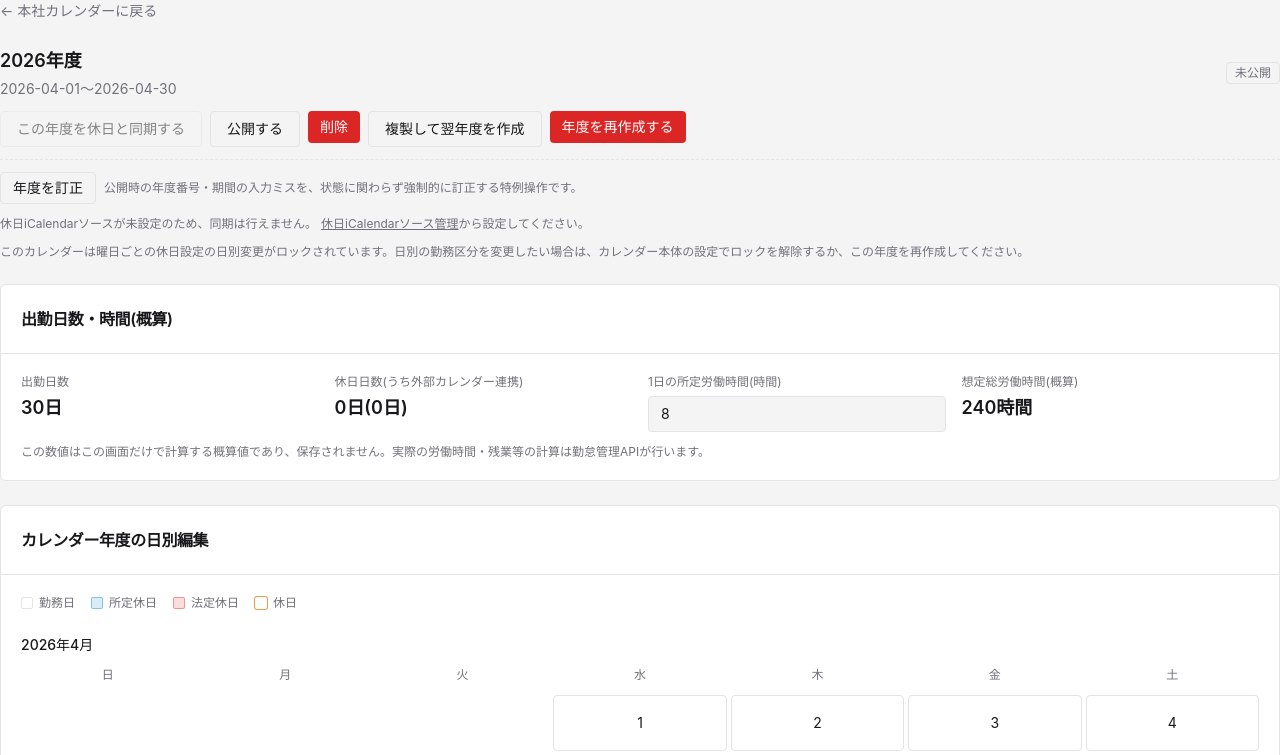
Test case: WorkCalendarDaysPage › shows the classification read-only and hints at the lock when the calendar disallows daily override
What coordinates should you click on to do the following:
click the button named "2026-04-01 勤務日"
I would click on:
 (640, 723)
Its box is x1=553 y1=695 x2=727 y2=751.
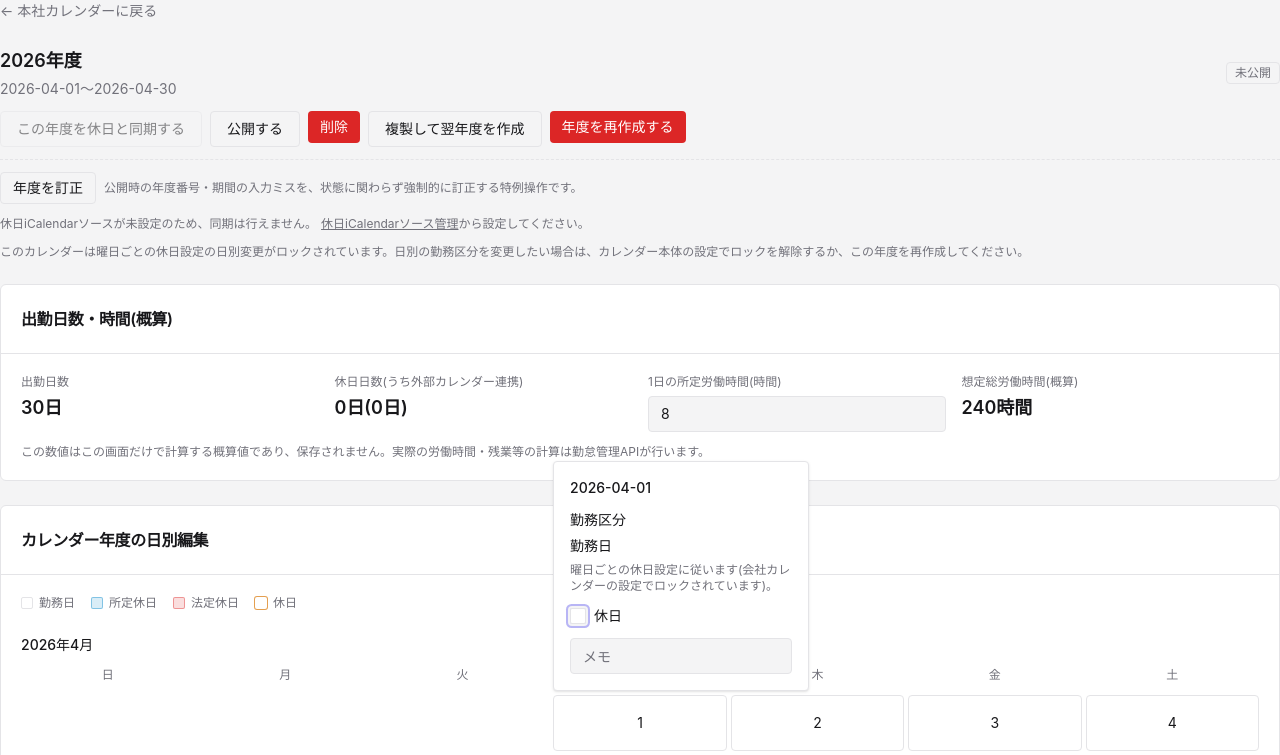
Expected: the text "このカレンダーは曜日ごとの休日設定の日別変更がロックされています。日別の勤務区分を変更したい場合は、カレンダー本体の設定でロックを解除するか、この年度を再作成してください。" is shown, x1=0 y1=244 x2=1029 y2=259
Result: the text "曜日ごとの休日設定に従います(会社カレンダーの設定でロックされています)。" is shown at x1=570 y1=562 x2=792 y2=594
Result: the checkbox named "2026-04-01の休日" is enabled at x1=570 y1=608 x2=586 y2=624
